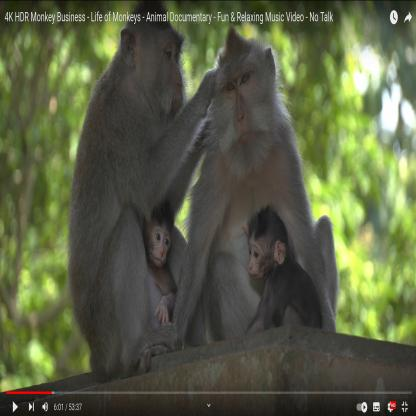monkey: (64, 0, 195, 385), (186, 26, 341, 346)
